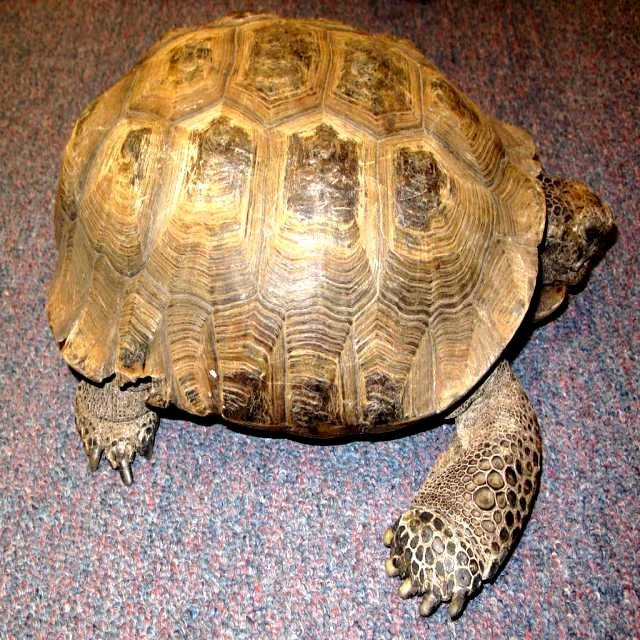Sea turtle: (40, 8, 616, 621)
